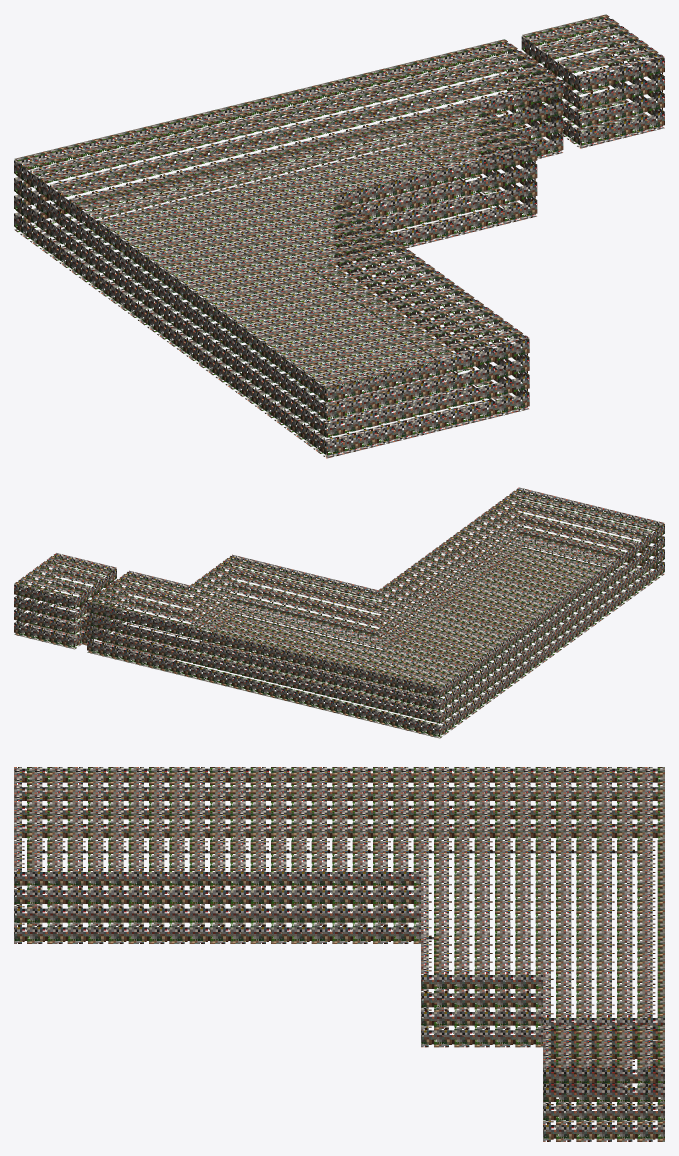
File: RoomParking.fbx
The picture shows the model from 3 angles, top to bottom: view 1: azimuth 30°, elevation 25°; view 2: azimuth 150°, elevation 25°; view 3: azimuth 270°, elevation 25°; orthographic projection. The views are drawn at different scales.
Visible parts, largest first — view 1: Parking; view 2: Parking; view 3: Parking.
Part boxes in pixels (x1,y1,x2,y2): Parking: (14, 14, 664, 458); Parking: (14, 487, 664, 738); Parking: (14, 767, 664, 1141).
Size of what is drawn, in the model's own units: 35 by 4.2 by 32.
